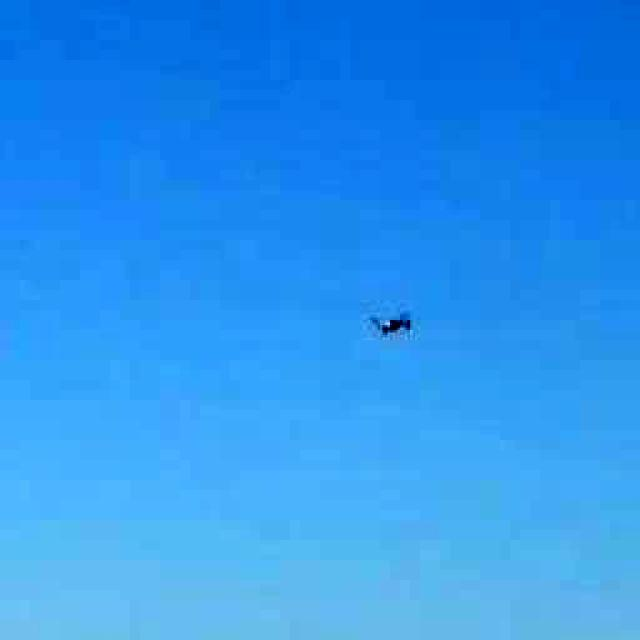bird: (340, 288, 445, 352)
